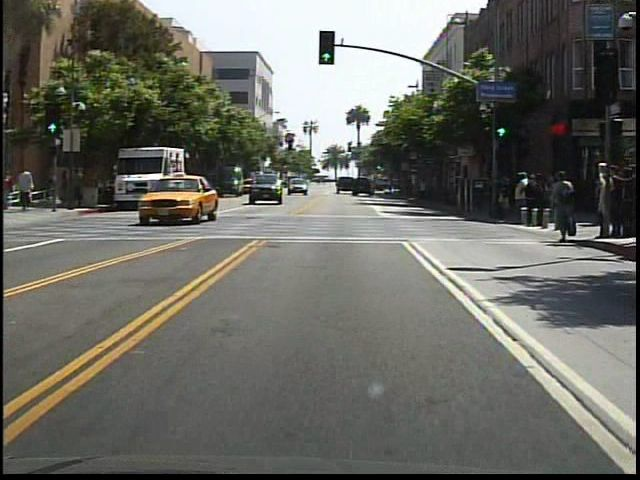person: (548, 167, 578, 242), (511, 166, 530, 226), (18, 164, 39, 214), (73, 167, 89, 210), (5, 172, 18, 213), (60, 168, 72, 205)
